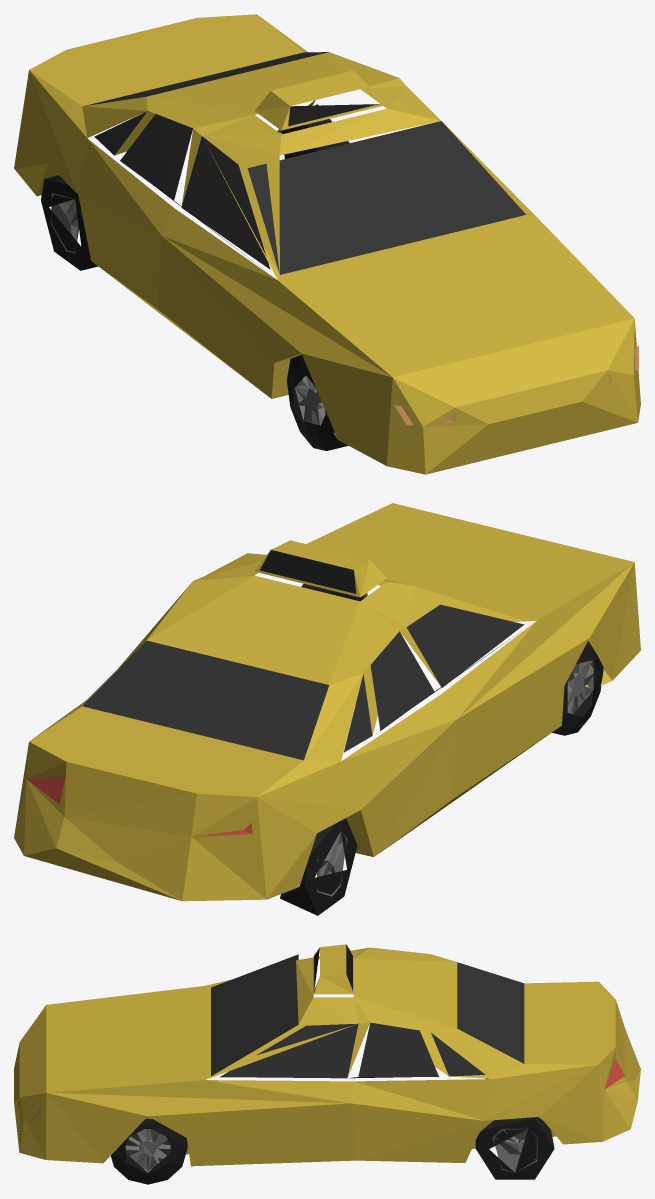
Rendered from taxi.glb.
The picture shows the model from 3 angles, top to bottom: view 1: azimuth 30°, elevation 25°; view 2: azimuth 150°, elevation 25°; view 3: azimuth 270°, elevation 25°; orthographic projection. The views are drawn at different scales.
Parts seen in each view (by area): view 1: Taxi, Taxi_BackWheels, Taxi_FrontRightWheel; view 2: Taxi, Taxi_BackWheels, Taxi_FrontRightWheel; view 3: Taxi, Taxi_BackWheels, Taxi_FrontLeftWheel.
Boxes of the visible parts, bbox=[...] form: Taxi: bbox=[14, 14, 640, 474]; Taxi_BackWheels: bbox=[41, 104, 349, 270]; Taxi_FrontRightWheel: bbox=[286, 354, 348, 450]; Taxi: bbox=[14, 503, 640, 901]; Taxi_BackWheels: bbox=[280, 818, 357, 915]; Taxi_FrontRightWheel: bbox=[552, 641, 603, 735]; Taxi: bbox=[14, 944, 640, 1166]; Taxi_BackWheels: bbox=[475, 1078, 554, 1179]; Taxi_FrontLeftWheel: bbox=[111, 1118, 187, 1184].
Bounding box in the file's own units: 1.69 × 1.3 × 4.17.
